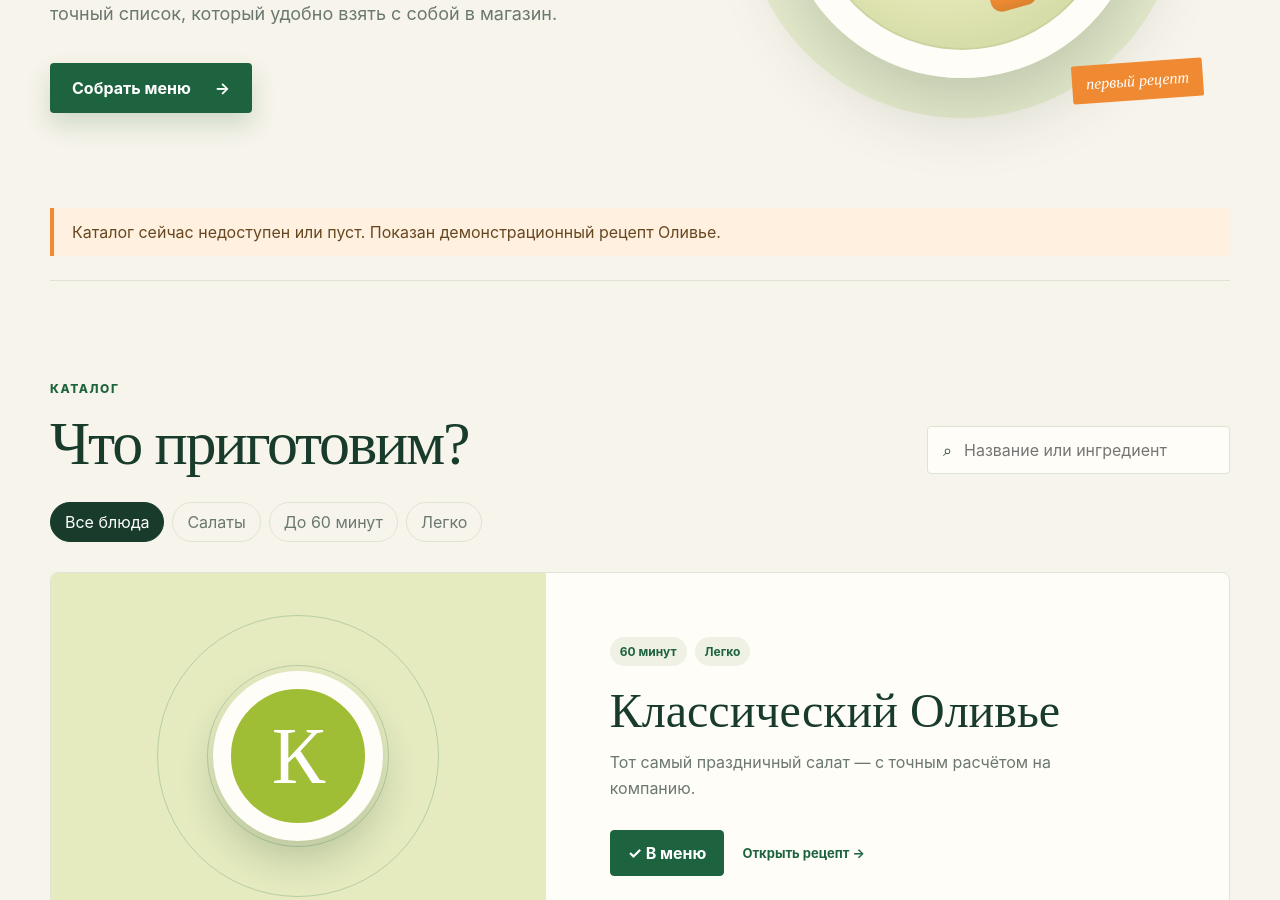
App › фильтрует каталог по введённому запросу
(page scrolled)
Type "борщ" into the search field with placeholder "Название или ингредиент" at (1088, 450), box [962, 439, 1214, 461]
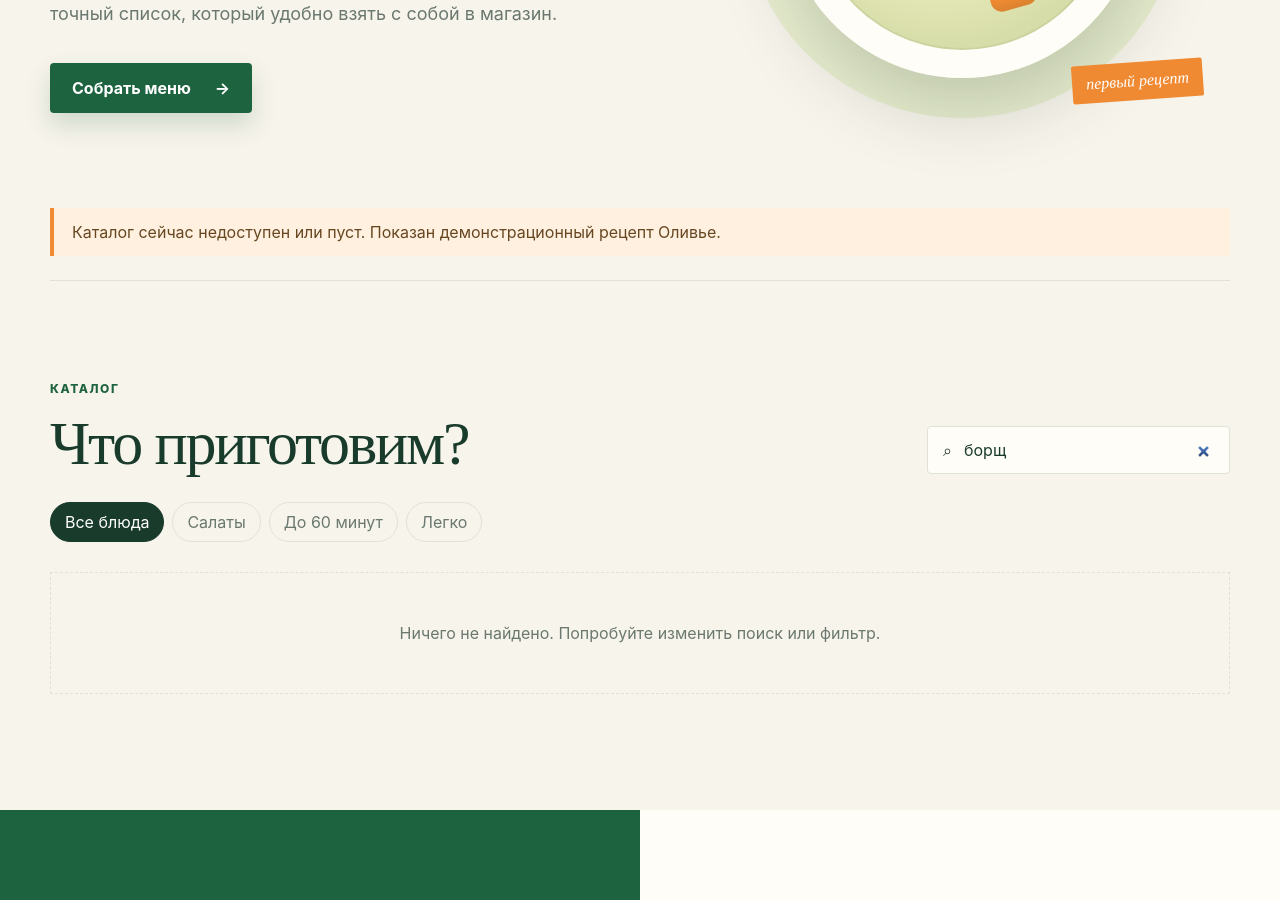
Result: the text "Ничего не найдено. Попробуйте изменить поиск или фильтр." is shown at [50, 572, 1230, 694]
Clear the search field with placeholder "Название или ингредиент" at (1088, 450), box [962, 439, 1214, 461]
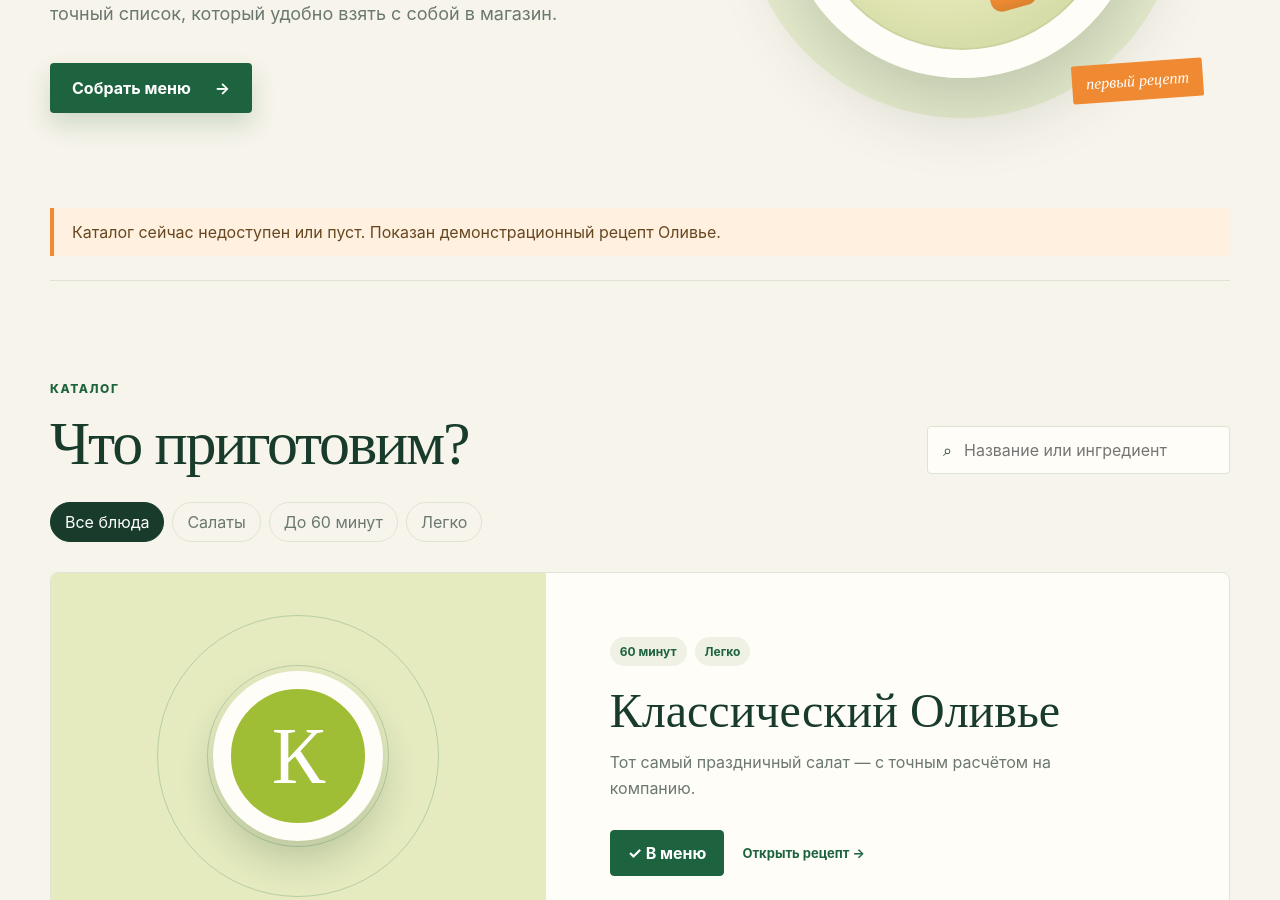
Expected: the message shows "Показан демонстрационный рецепт Оливье", [72, 222, 721, 242]
Result: the heading "Классический Оливье" is shown at [610, 686, 1060, 736]
